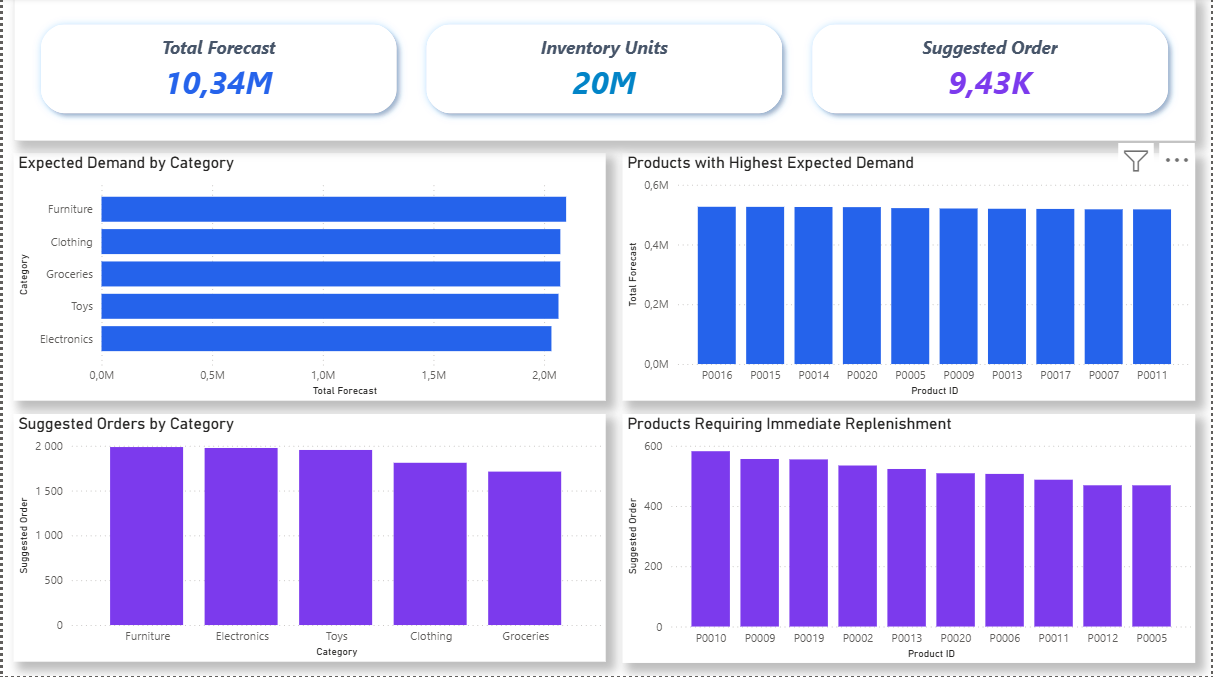

Layout of this report page (visuals, bound fields, positions):
{"tool":"powerbi","page":{"name":"Demand Forecast Insights","canvas":[1280,720],"ordinal":1},"visuals":[{"type":"barChart","title":"Expected Demand by Category","fields":{"Category":["recommendation.Category"],"Y":["_Measure.Avg Demand Forecasting"]},"box":[11.1,165.4,628.3,262.5],"z":0},{"type":"clusteredColumnChart","title":"Suggested Orders by Category","fields":{"Category":["recommendation.Category"],"Y":["_Measure.Suggested Order"]},"box":[11.1,442.2,628.3,262.5],"z":1000},{"type":"clusteredColumnChart","title":"Products with Highest Expected Demand","fields":{"Category":["recommendation.Product ID"],"Y":["_Measure.Avg Demand Forecasting"]},"box":[656.9,165.4,607.6,262.5],"z":2000},{"type":"columnChart","title":"Products Requiring Immediate Replenishment","fields":{"Category":["recommendation.Product ID"],"Y":["_Measure.Suggested Order"]},"box":[656.9,442.2,607.6,264],"z":3000},{"type":"cardVisual","fields":{"Data":["_Measure.Avg Demand Forecasting","_Measure.Inventory Units","_Measure.Suggested Order"]},"box":[11.1,0,1253.4,152.7],"z":3001}]}

Visuals, with their boxes in screenshot pixels (x1, y1, x2, y2), scaled from the page's 1280x720 canvas onto the 1213x677 screenshot:
"Expected Demand by Category" barChart: <box>11,156,606,402</box>
"Suggested Orders by Category" clusteredColumnChart: <box>11,416,606,663</box>
"Products with Highest Expected Demand" clusteredColumnChart: <box>623,156,1198,402</box>
"Products Requiring Immediate Replenishment" columnChart: <box>623,416,1198,664</box>
cardVisual - _Measure.Avg Demand Forecasting x _Measure.Inventory Units: <box>11,0,1198,144</box>
